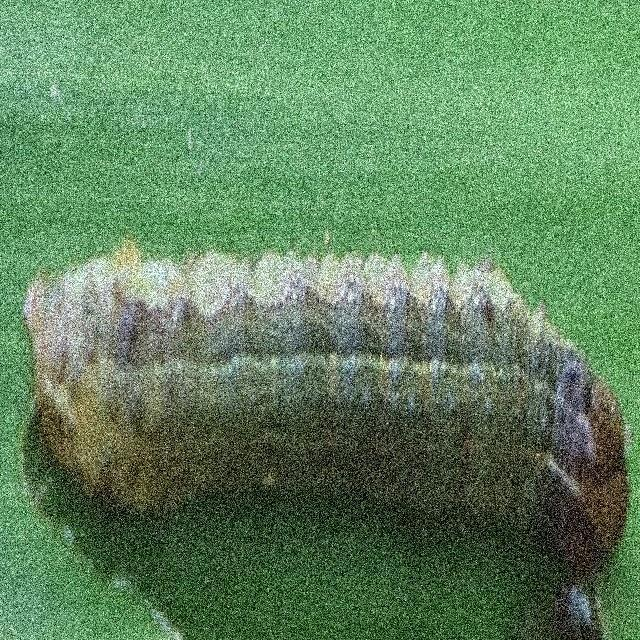Plaga: (17, 235, 640, 581)
